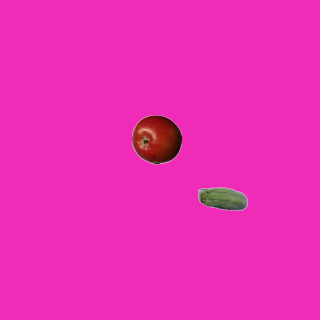Apple Braeburn: (131, 114, 181, 164)
Corn Husk: (197, 175, 247, 225)
